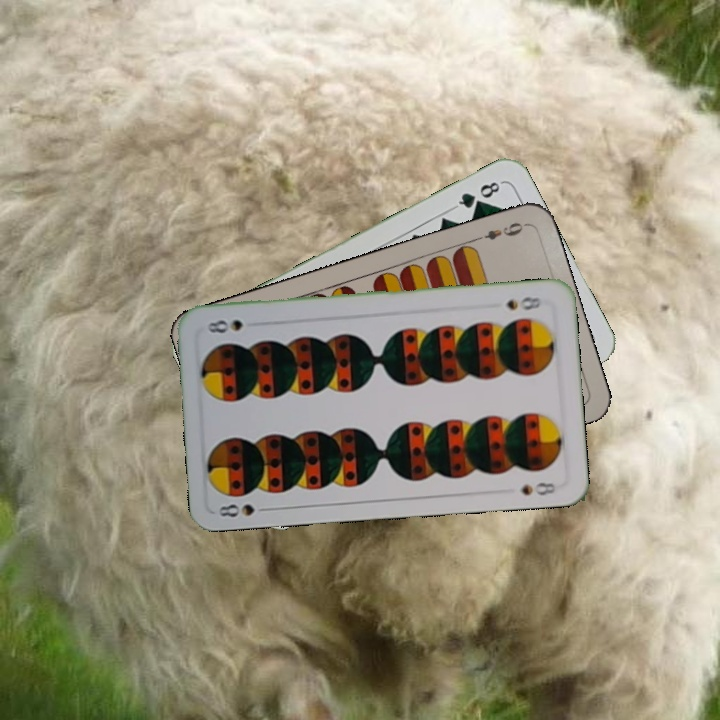E9: (471, 218, 529, 244)
G8: (450, 177, 505, 212)
S8: (215, 500, 274, 520), (502, 293, 543, 313)
